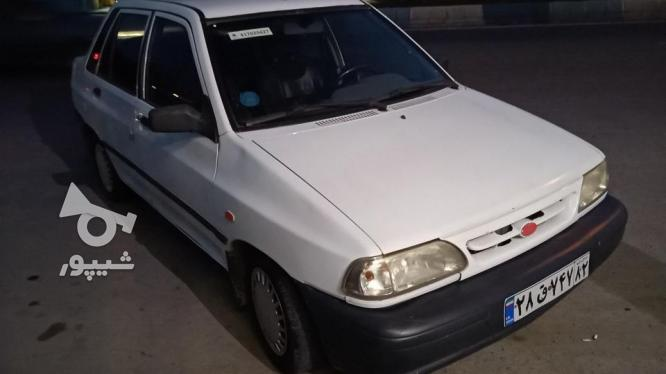car: (500, 250, 593, 328)
